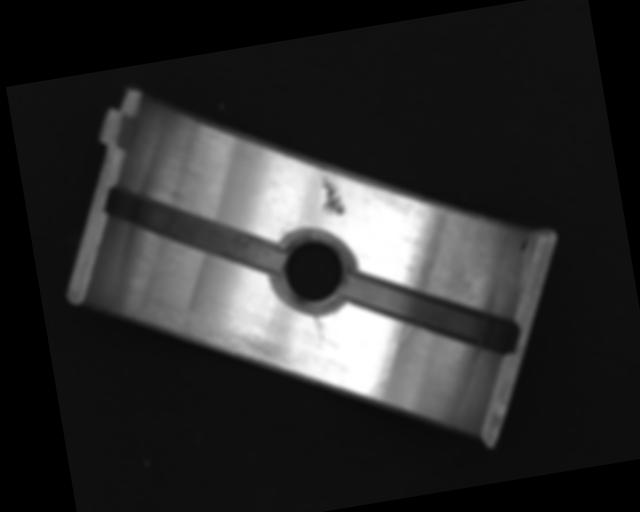blot: (516, 234, 534, 252)
bruise: (319, 174, 347, 218)
gap: (104, 163, 288, 298), (341, 251, 519, 377)
hole: (266, 225, 359, 316)
nick: (358, 338, 406, 398), (313, 314, 326, 341)
scratch: (133, 281, 293, 392)
